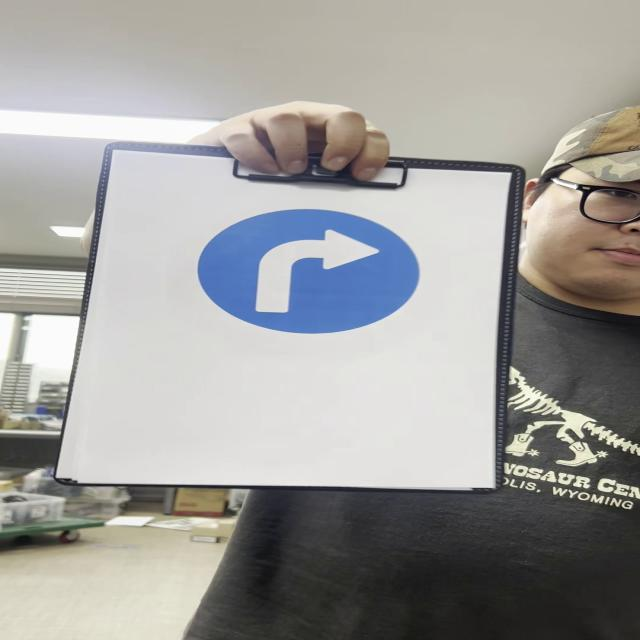right: (198, 209, 425, 337)
